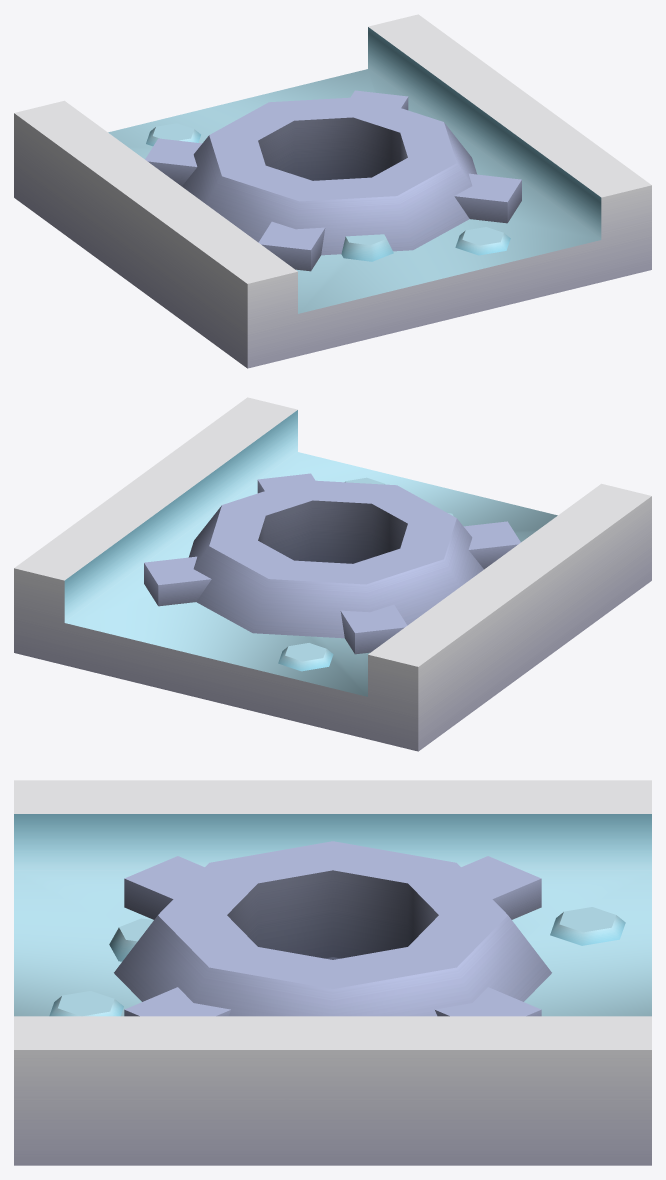
Rendered from snow-tile-spawn-round.fbx.
3 views of the same model, one above another, from view 1: azimuth 30°, elevation 25°; view 2: azimuth 150°, elevation 25°; view 3: azimuth 270°, elevation 25° (orthographic). The views are drawn at different scales.
Visible parts, largest first — view 1: snow-tile-spawn-round; view 2: snow-tile-spawn-round; view 3: snow-tile-spawn-round.
Boxes of the visible parts, x1,y1,x2,y2 form: snow-tile-spawn-round: [14, 14, 651, 368]; snow-tile-spawn-round: [14, 397, 651, 751]; snow-tile-spawn-round: [14, 780, 651, 1165].
Size of the model in its own units: 100 by 20 by 100.
